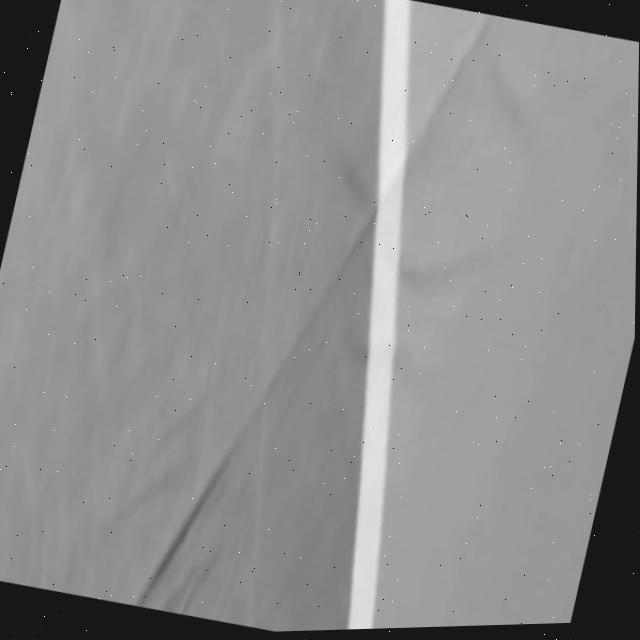right: (347, 0, 411, 629)
